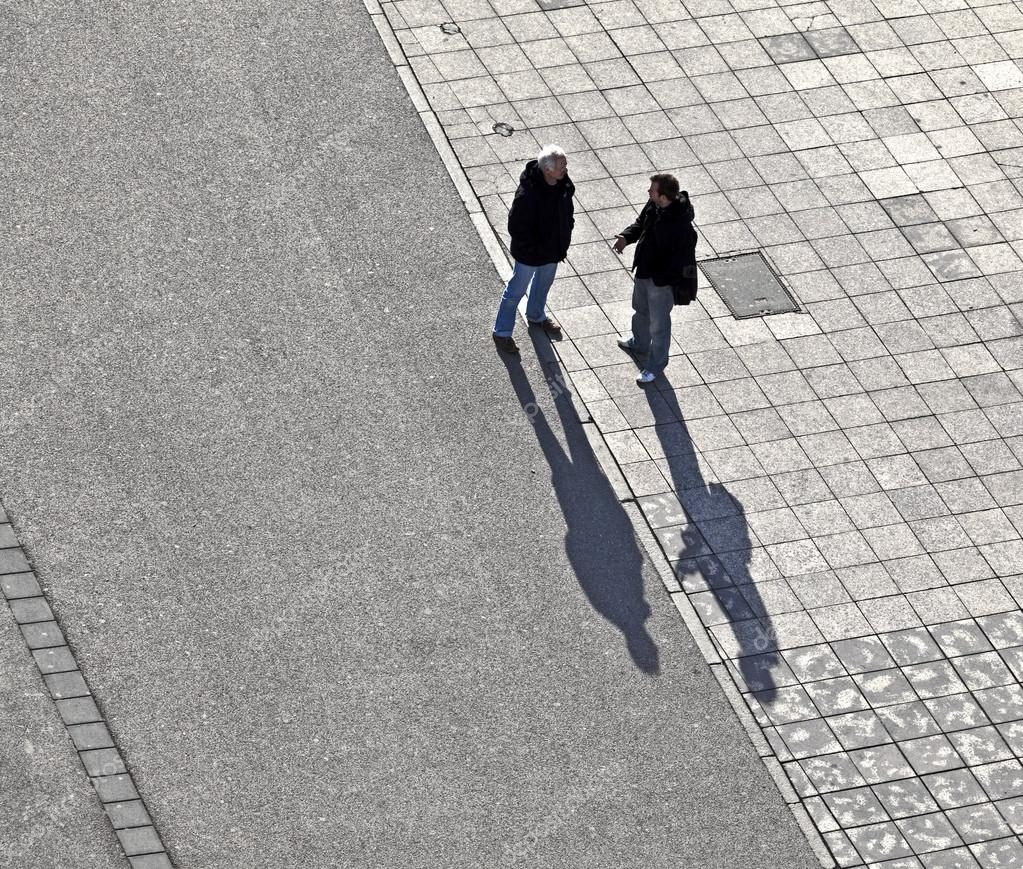Person: (603, 170, 715, 392), (488, 144, 578, 358)
